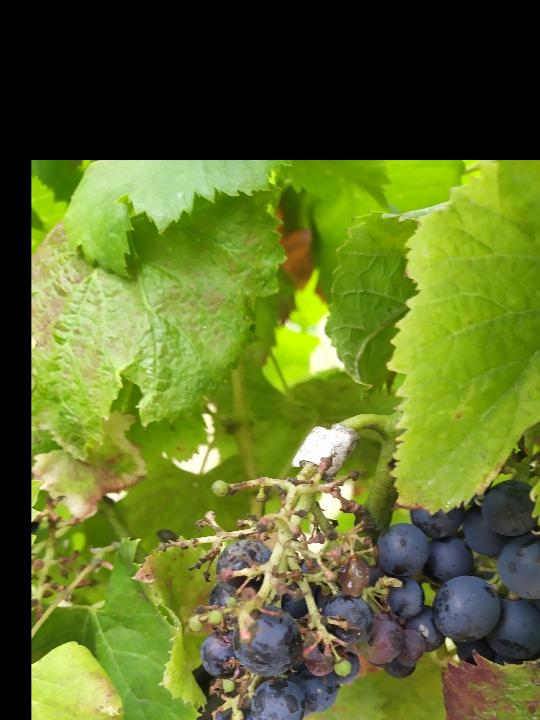grape: (156, 464, 425, 720)
